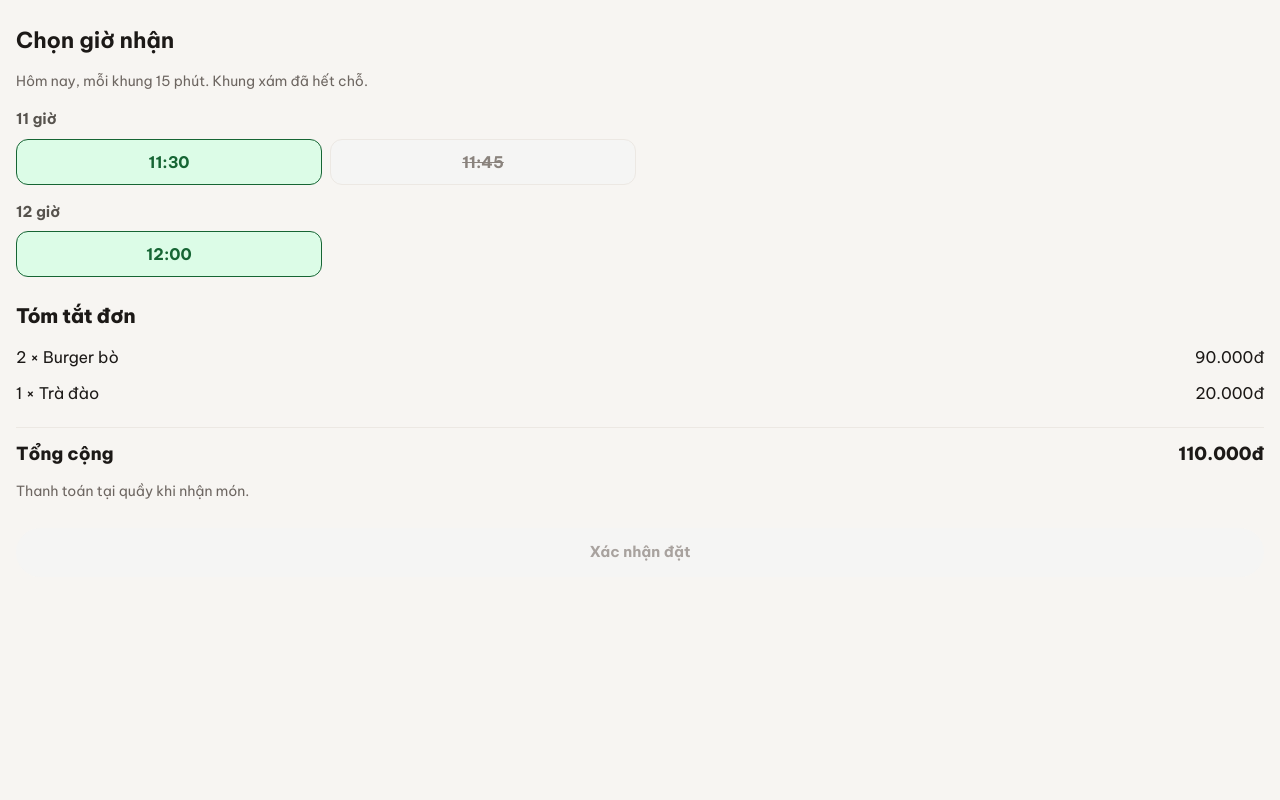
Scenario: CheckoutPage › khung không còn hợp lệ: ở lại và tải lại danh sách khung (E6)
Step 1. Click the button "11:30" → (169, 162), box [16, 138, 322, 184]
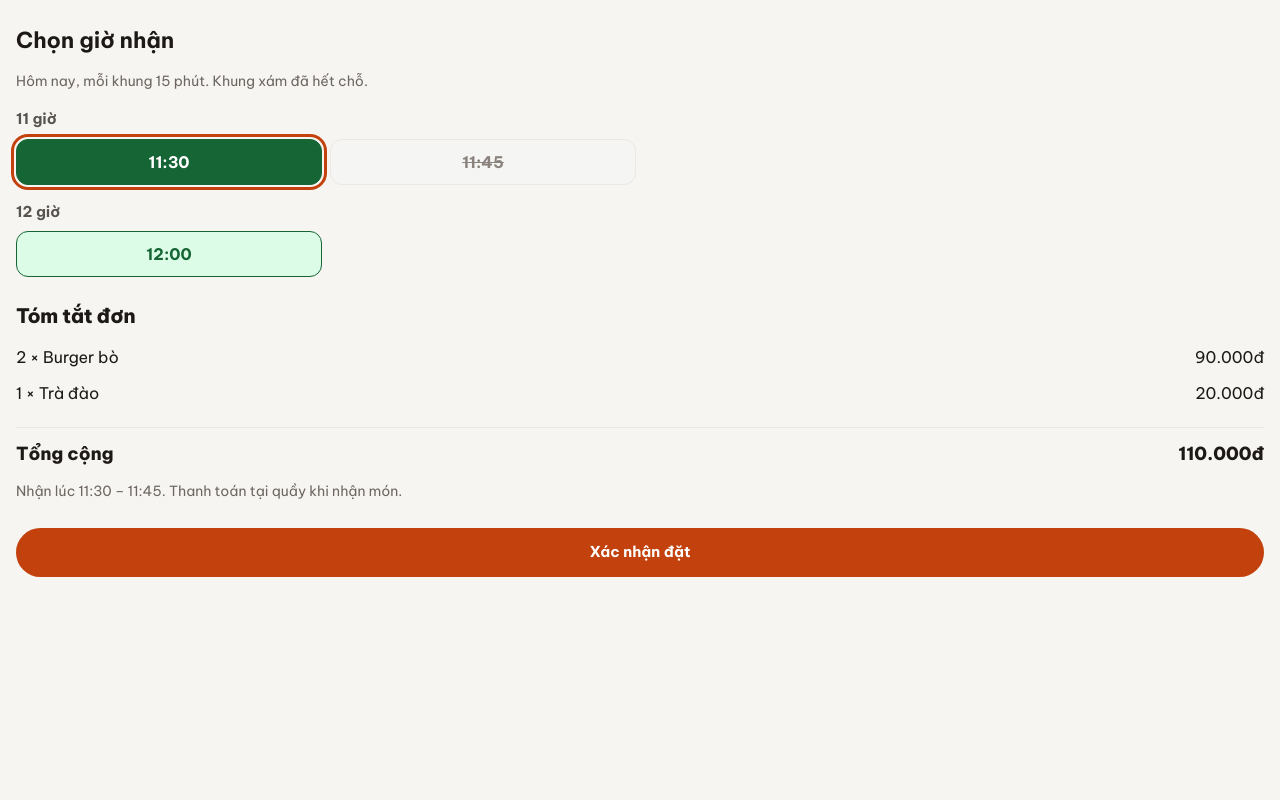
Step 2. Click the button "Xác nhận đặt" → (640, 552), box [16, 528, 1264, 576]
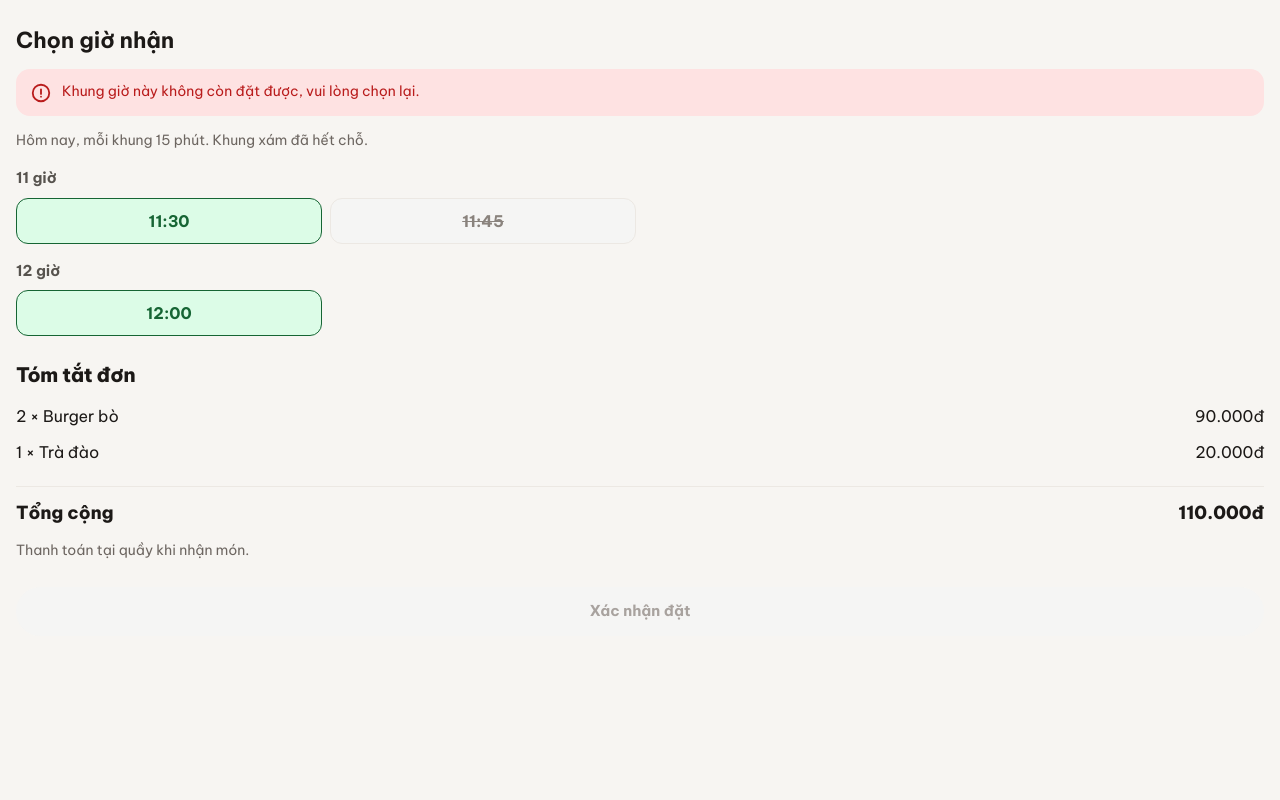
Expected: the message shows "không còn đặt được", [62, 82, 420, 100]
